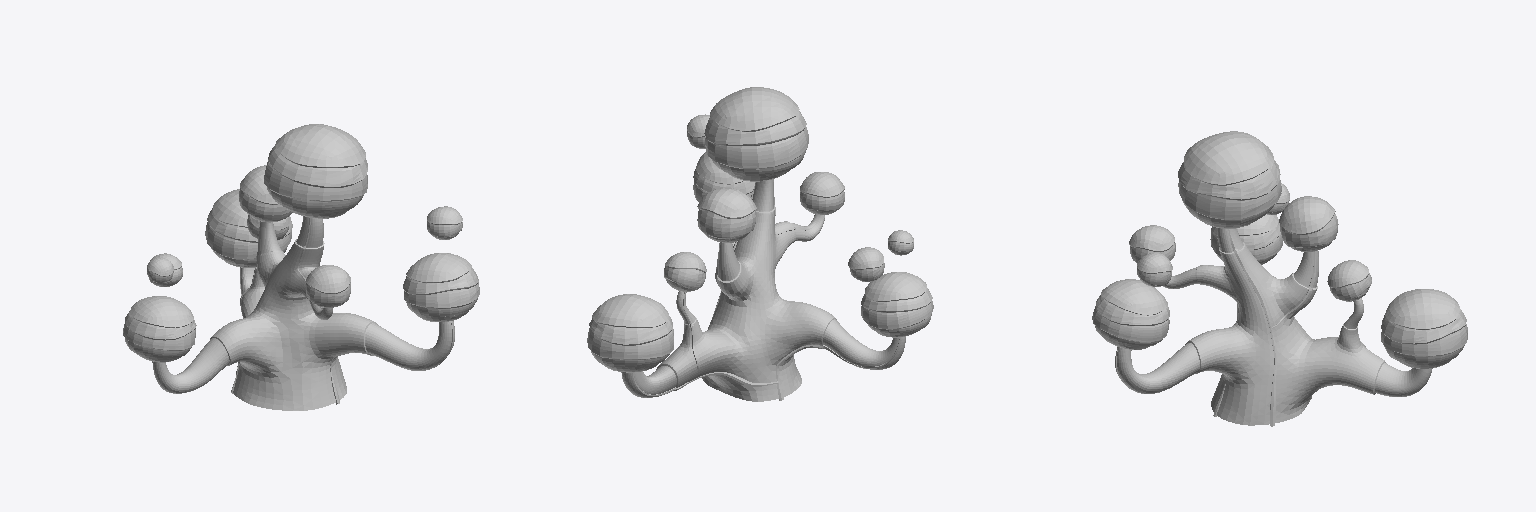
File: tree-03.obj
3 renders of one model, left to right at view 1: azimuth 30°, elevation 25°; view 2: azimuth 150°, elevation 25°; view 3: azimuth 270°, elevation 25°, orthographic.
Visible parts, largest first — view 1: trunk tree_03 Trees, tree_03 Trees section_01 bulb_large_08, tree_03 Trees bulb_large_08 section_02, tree_03 Trees bulb_large_08 section_03, tree_03 Trees section_01 bulb_large_09, tree_03 Trees section_01 bulb_large_010, tree_03 Trees bulb_large_011 section_03, tree_03 Trees bulb_large_010 section_03, tree_03 Trees section_01 bulb_small_012, tree_03 Trees bulb_large_08 section_04, tree_03 Trees bulb_large_010 section_02, tree_03 Trees bulb_large_09 section_02 (+7 smaller); view 2: trunk tree_03 Trees, tree_03 Trees section_01 bulb_large_08, tree_03 Trees bulb_large_08 section_03, tree_03 Trees section_01 bulb_large_011, tree_03 Trees bulb_large_08 section_02, tree_03 Trees bulb_large_011 section_03, tree_03 Trees section_01 bulb_large_09, tree_03 Trees vines, tree_03 Trees bulb_large_011 section_02, tree_03 Trees section_01 bulb_small_014, tree_03 Trees bulb_small_014 section_02, tree_03 Trees bulb_large_09 section_03 (+9 smaller); view 3: trunk tree_03 Trees, tree_03 Trees section_01 bulb_large_08, tree_03 Trees section_01 bulb_large_011, tree_03 Trees bulb_large_08 section_03, tree_03 Trees bulb_large_08 section_02, tree_03 Trees section_01 bulb_large_010, tree_03 Trees section_01 bulb_small_014, tree_03 Trees vines, tree_03 Trees bulb_large_011 section_02, tree_03 Trees bulb_large_011 section_03, tree_03 Trees bulb_large_010 section_03, tree_03 Trees bulb_large_010 section_02 (+7 smaller).
Boxes of the visible parts, x1,y1,x2,y2 form: trunk tree_03 Trees: [153, 216, 454, 410]; tree_03 Trees section_01 bulb_large_08: [275, 124, 365, 167]; tree_03 Trees bulb_large_08 section_02: [268, 146, 367, 187]; tree_03 Trees bulb_large_08 section_03: [264, 161, 367, 201]; tree_03 Trees section_01 bulb_large_09: [131, 296, 193, 327]; tree_03 Trees section_01 bulb_large_010: [406, 253, 471, 282]; tree_03 Trees bulb_large_011 section_03: [205, 222, 291, 259]; tree_03 Trees bulb_large_010 section_03: [404, 282, 479, 308]; tree_03 Trees section_01 bulb_small_012: [306, 265, 350, 293]; tree_03 Trees bulb_large_08 section_04: [267, 187, 363, 212]; tree_03 Trees bulb_large_010 section_02: [403, 267, 478, 294]; tree_03 Trees bulb_large_09 section_02: [125, 310, 196, 340]; trunk tree_03 Trees: [621, 179, 905, 401]; tree_03 Trees section_01 bulb_large_08: [710, 87, 799, 131]; tree_03 Trees bulb_large_08 section_03: [705, 127, 808, 169]; tree_03 Trees section_01 bulb_large_011: [592, 294, 668, 327]; tree_03 Trees bulb_large_08 section_02: [704, 111, 806, 145]; tree_03 Trees bulb_large_011 section_03: [587, 328, 673, 359]; tree_03 Trees section_01 bulb_large_09: [865, 272, 926, 301]; tree_03 Trees vines: [632, 179, 901, 400]; tree_03 Trees bulb_large_011 section_02: [589, 316, 672, 345]; tree_03 Trees section_01 bulb_small_014: [697, 188, 756, 218]; tree_03 Trees bulb_small_014 section_02: [697, 209, 755, 238]; tree_03 Trees bulb_large_09 section_03: [861, 301, 933, 329]; trunk tree_03 Trees: [1117, 228, 1432, 425]; tree_03 Trees section_01 bulb_large_08: [1184, 131, 1274, 185]; tree_03 Trees section_01 bulb_large_011: [1385, 289, 1459, 329]; tree_03 Trees bulb_large_08 section_03: [1178, 178, 1281, 219]; tree_03 Trees bulb_large_08 section_02: [1178, 161, 1280, 200]; tree_03 Trees section_01 bulb_large_010: [1101, 279, 1167, 315]; tree_03 Trees section_01 bulb_small_014: [1279, 196, 1335, 234]; tree_03 Trees vines: [1115, 229, 1365, 426]; tree_03 Trees bulb_large_011 section_02: [1381, 309, 1466, 344]; tree_03 Trees bulb_large_011 section_03: [1381, 324, 1467, 356]; tree_03 Trees bulb_large_010 section_03: [1092, 306, 1169, 342]; tree_03 Trees bulb_large_010 section_02: [1096, 295, 1169, 325].
Bounding box in the file's own units: 2.73 × 2.47 × 3.07.